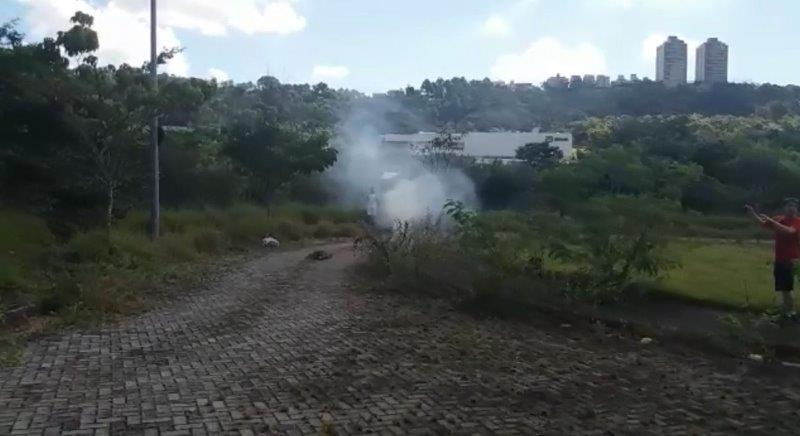smoke: (384, 176, 460, 211)
